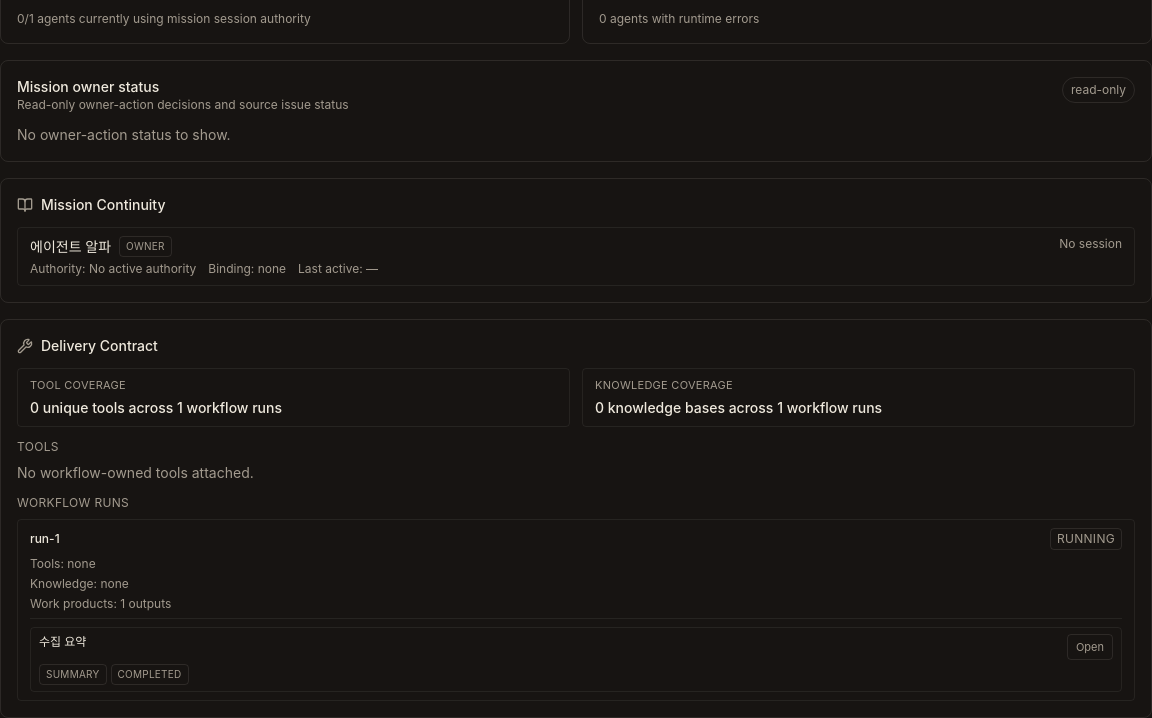
Scenario: MissionExecutionOverview a11y › announces work product open status and failures
(page scrolled)
Click the button titled "Open in your browser" at (1090, 647), box [1067,634,1113,660]
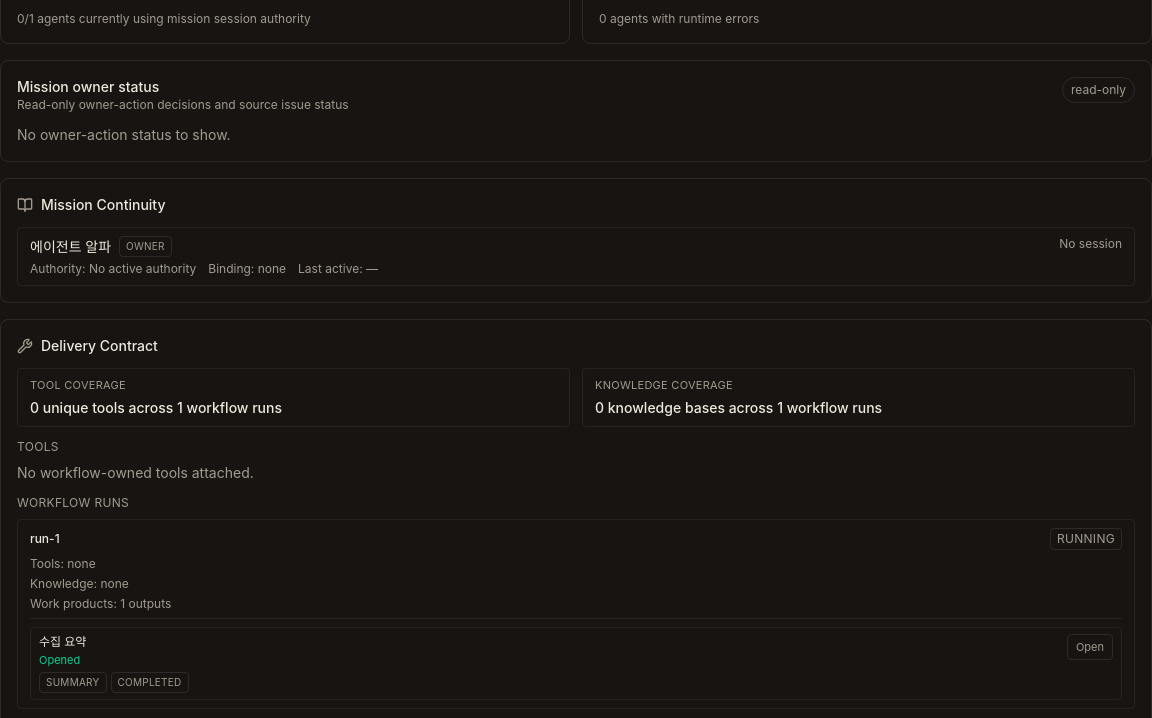
Expected: the text "Opened" is shown, [39,652,86,668]
Click the button titled "Open in your browser" at (1090, 647), box [1067,634,1113,660]
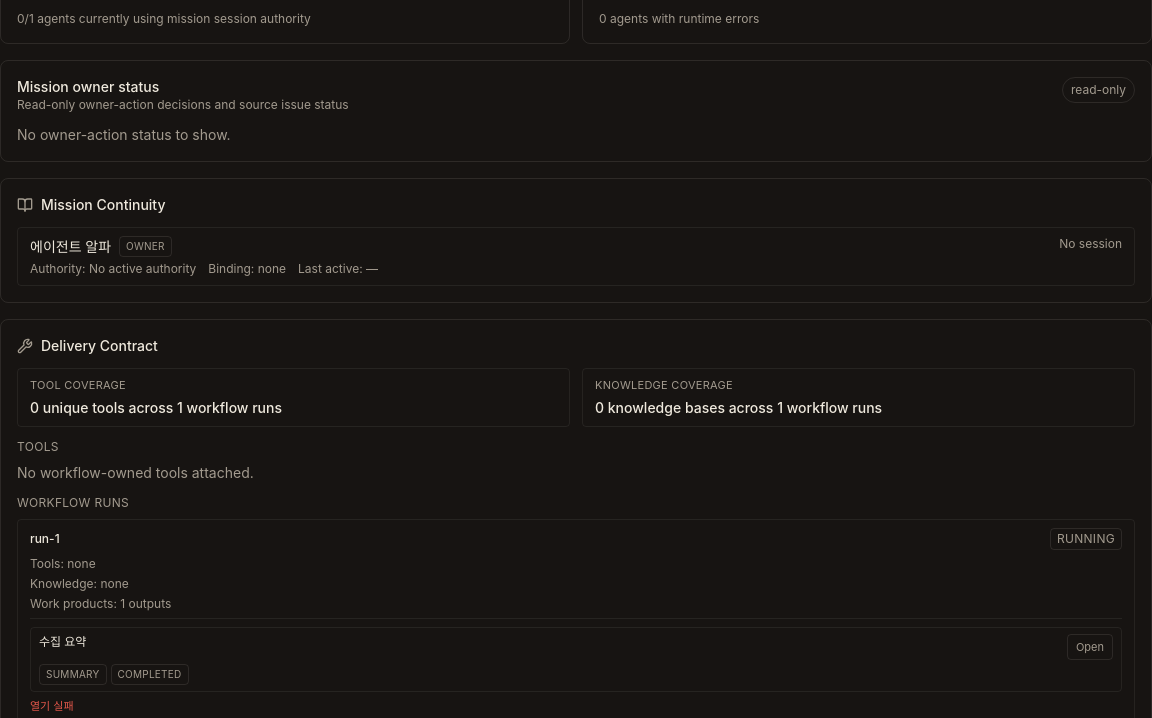
Expected: the message "열기 실패" is shown, [30,699,74,713]
